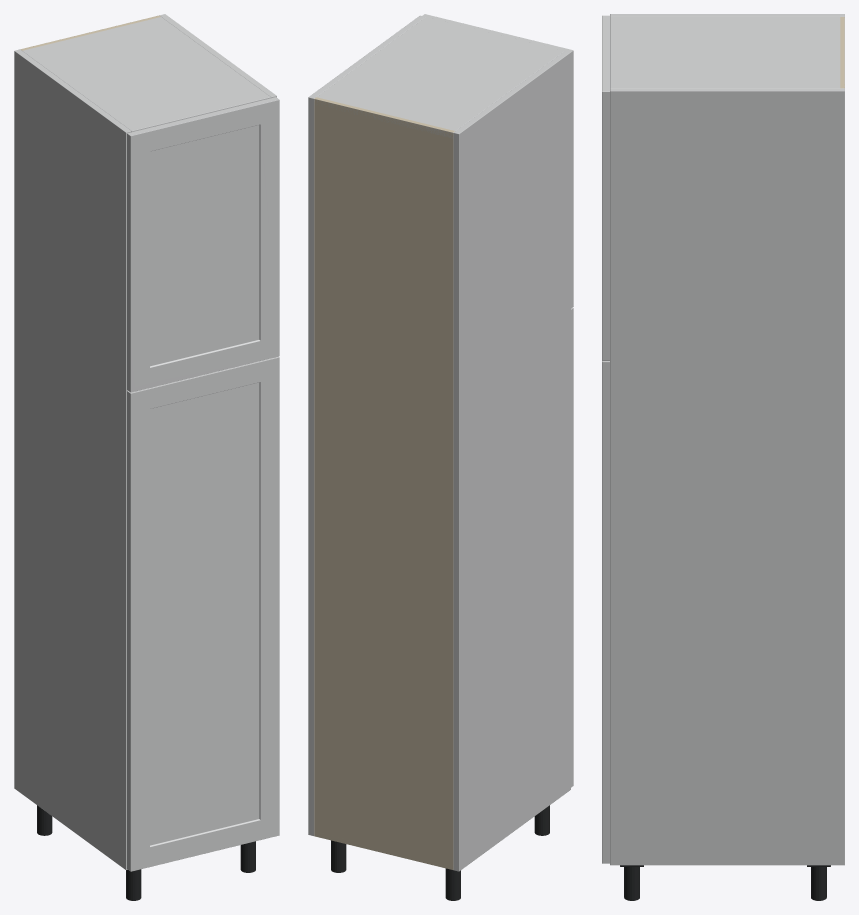
The model's file is PLY-WSS-PC1884.glb.
3 views of the same model, side by side, from view 1: azimuth 30°, elevation 25°; view 2: azimuth 150°, elevation 25°; view 3: azimuth 270°, elevation 25° (orthographic). The views are drawn at different scales.
Visible parts, largest first — view 1: Carcass left, Shaker door, Shaker door.001, Carcass top, Carcass right; view 2: Carcass back, Carcass left, Carcass top, Carcass right, Shaker door, Shaker door.001; view 3: Carcass right, Carcass top, Shaker door, Shaker door.001, Carcass left, Adjustable foot.002, Adjustable foot.003.
Boxes of the visible parts, x1=… form: Carcass left: x1=14, y1=49, x2=131, y2=869; Shaker door: x1=127, y1=356, x2=279, y2=871; Shaker door.001: x1=127, y1=97, x2=279, y2=392; Carcass top: x1=21, y1=17, x2=270, y2=131; Carcass right: x1=159, y1=14, x2=276, y2=98; Carcass back: x1=314, y1=97, x2=454, y2=869; Carcass left: x1=453, y1=51, x2=570, y2=871; Carcass top: x1=314, y1=17, x2=564, y2=138; Carcass right: x1=308, y1=15, x2=425, y2=835; Shaker door: x1=571, y1=307, x2=573, y2=787; Shaker door.001: x1=422, y1=14, x2=573, y2=308; Carcass right: x1=610, y1=88, x2=844, y2=865; Carcass top: x1=610, y1=17, x2=844, y2=88; Shaker door: x1=602, y1=361, x2=609, y2=863; Shaker door.001: x1=602, y1=15, x2=609, y2=360; Carcass left: x1=610, y1=14, x2=844, y2=16; Adjustable foot.002: x1=811, y1=867, x2=826, y2=900; Adjustable foot.003: x1=624, y1=867, x2=639, y2=900.
Size of the model in its own units: 0.4572 by 2.25 by 0.6064.
